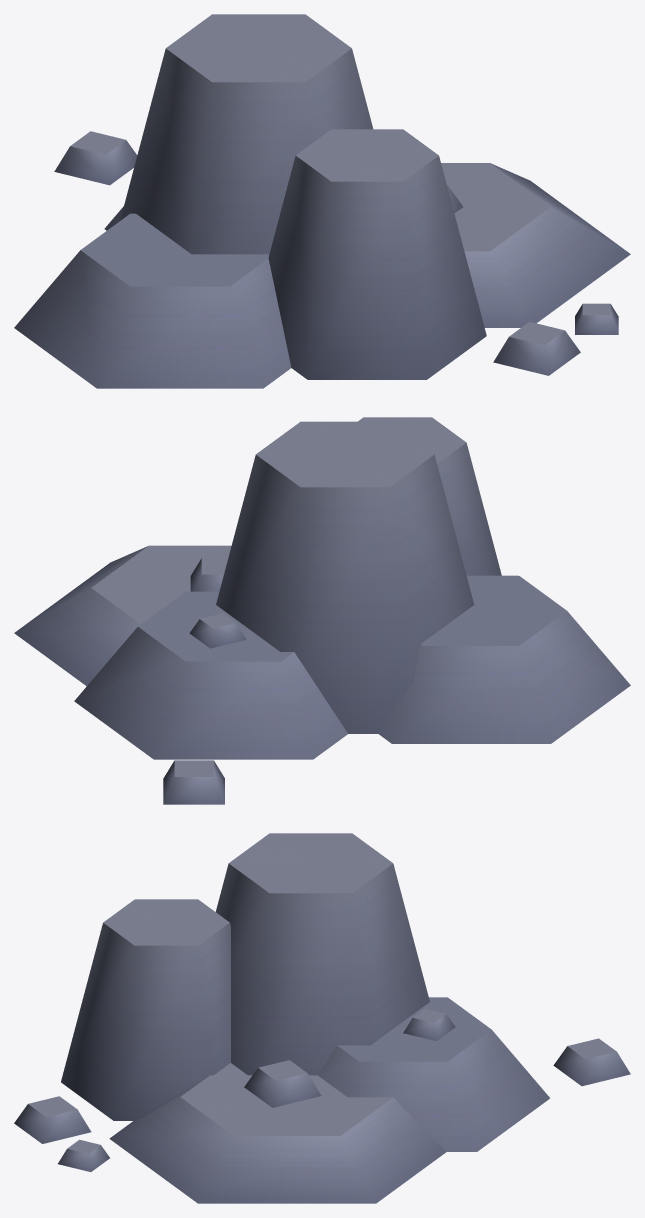
File: rocks-large.glb
3 renders of one model, top to bottom at view 1: azimuth 30°, elevation 25°; view 2: azimuth 150°, elevation 25°; view 3: azimuth 270°, elevation 25°, orthographic. The views are drawn at different scales.
Parts seen in each view (by area): view 1: rocks-large; view 2: rocks-large; view 3: rocks-large.
Part boxes in pixels (<box>): rocks-large: <box>14,14,630,388</box>; rocks-large: <box>14,417,630,804</box>; rocks-large: <box>14,833,630,1203</box>.
Size of the model in its own units: 1.2 by 0.5 by 1.35.
Materials: 1 (1 with a texture image).
